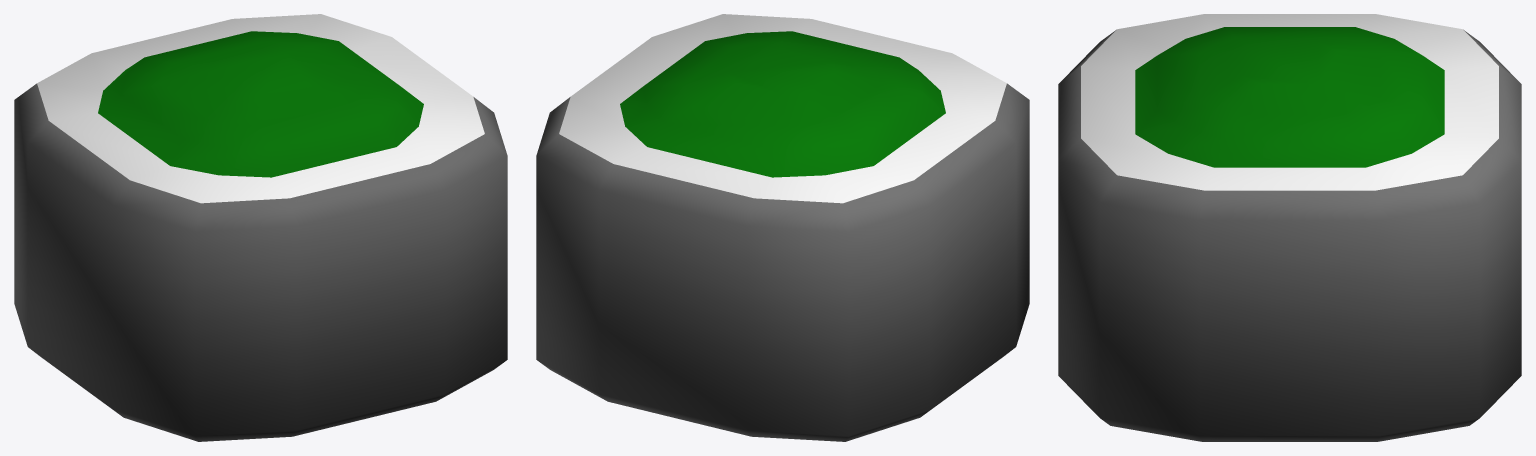
Rendered from Sushi Food_4.fbx.
3 views of the same model, side by side, from view 1: azimuth 30°, elevation 25°; view 2: azimuth 150°, elevation 25°; view 3: azimuth 270°, elevation 25° (orthographic). The views are drawn at different scales.
Visible parts, largest first — view 1: Sushi Food_4; view 2: Sushi Food_4; view 3: Sushi Food_4.
Part boxes in pixels (x1,y1,x2,y2): Sushi Food_4: [14, 14, 507, 441]; Sushi Food_4: [536, 14, 1029, 441]; Sushi Food_4: [1058, 14, 1521, 441].
Bounding box in the file's own units: 0.0452 × 0.0308 × 0.0452.
